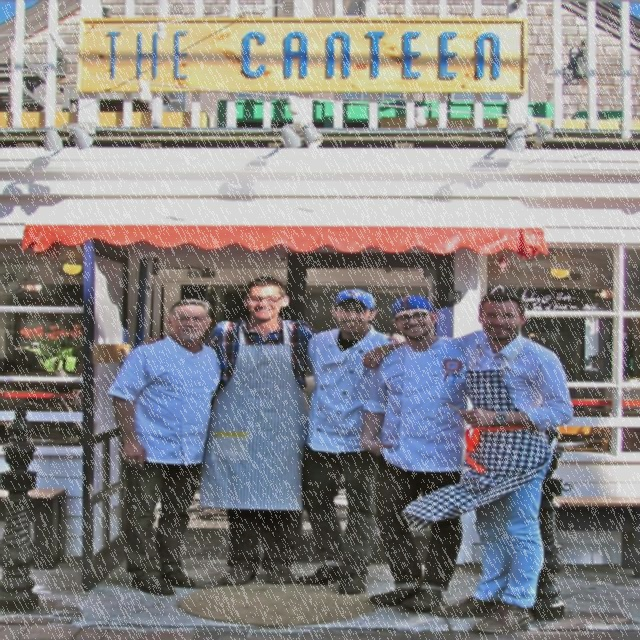pessoa: (356, 283, 580, 637), (198, 274, 324, 588), (103, 296, 225, 600), (360, 294, 470, 613), (287, 286, 398, 598)
